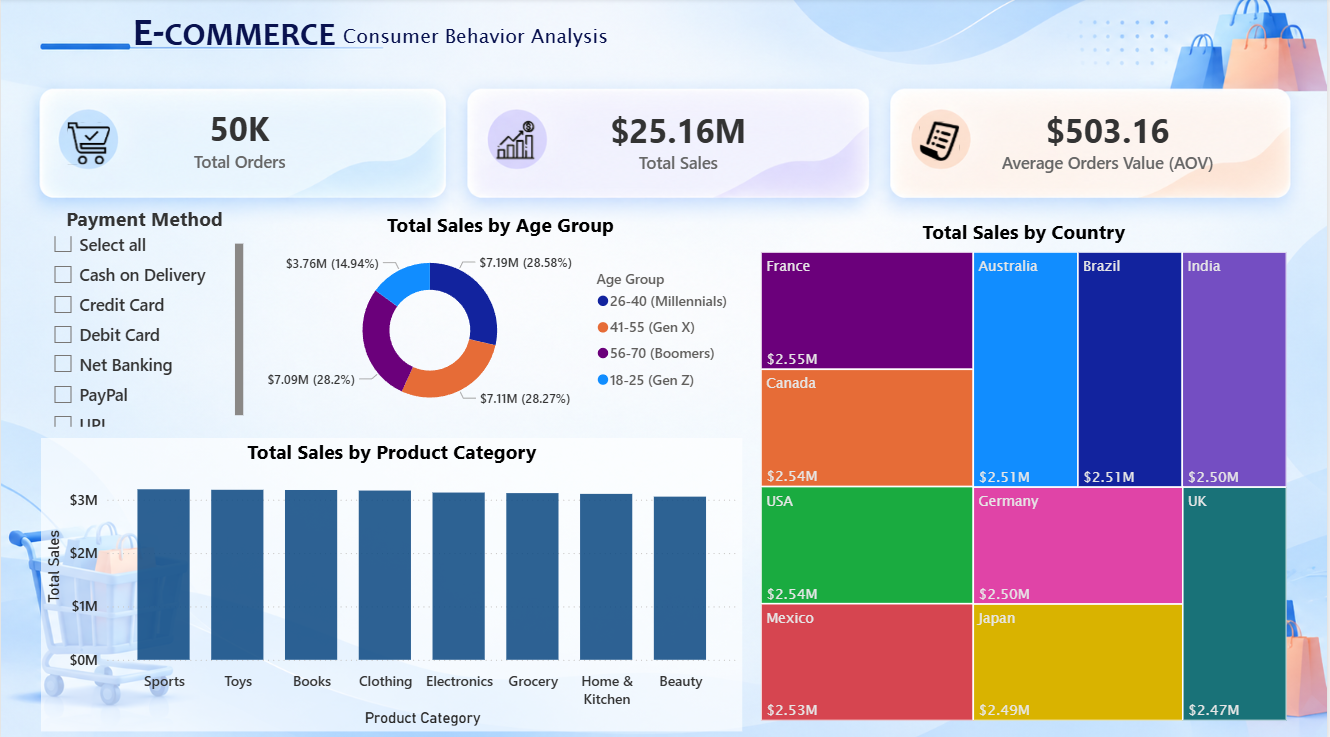

The page's visual inventory and layout, read from the dashboard file:
{"tool":"powerbi","page":{"name":"Page 1","canvas":[1280,720],"ordinal":0},"visuals":[{"type":"cardVisual","fields":{"Data":["Sum(ecommerce_db transactions.Purchase_Amount)"]},"box":[507.1,91.4,294.3,91.4],"z":0},{"type":"cardVisual","fields":{"Data":["CountNonNull(ecommerce_db transactions.Transaction_Date)"]},"box":[82.9,84.3,294.3,102.9],"z":1000},{"type":"cardVisual","fields":{"Data":["Avg(ecommerce_db transactions.Purchase_Amount)"]},"box":[920,87.1,295.7,100],"z":2000},{"type":"clusteredColumnChart","fields":{"Category":["ecommerce_db transactions.Product_Category"],"Y":["Sum(ecommerce_db transactions.Purchase_Amount)"]},"box":[38.6,424.3,677.1,282.9],"z":3000},{"type":"treemap","fields":{"Group":["ecommerce_db transactions.Country"],"Values":["Sum(ecommerce_db transactions.Purchase_Amount)"]},"box":[728.6,212.9,517.1,490],"z":4000},{"type":"donutChart","fields":{"Category":["ecommerce_db transactions.Age_Group"],"Y":["Sum(ecommerce_db transactions.Purchase_Amount)"]},"box":[248.6,205.7,467.1,204.3],"z":5000},{"type":"slicer","title":"Payment Method","fields":{"Values":["ecommerce_db transactions.Payment_Method"]},"box":[38.6,200,200,218.6],"z":6000},{"type":"actionButton","box":[50.5,111.4,67.7,58.2],"z":7000},{"type":"actionButton","box":[456.4,105.9,80.5,62.3],"z":8000},{"type":"actionButton","box":[872.7,110.9,67.3,54.1],"z":9000},{"type":"textbox","box":[65.7,0,320,64.3],"z":11000},{"type":"textbox","box":[298.6,18.6,320,41.4],"z":12000}]}

Visuals, with their boxes in screenshot pixels (x1, y1, x2, y2), scaled from the page's 1280x720 canvas onto the 1330x737 screenshot:
cardVisual - Sum(ecommerce_db transactions.Purchase_Amount): {"x1": 527, "y1": 94, "x2": 833, "y2": 187}
cardVisual - CountNonNull(ecommerce_db transactions.Transaction_Date): {"x1": 86, "y1": 86, "x2": 392, "y2": 192}
cardVisual - Avg(ecommerce_db transactions.Purchase_Amount): {"x1": 956, "y1": 89, "x2": 1263, "y2": 192}
clusteredColumnChart - ecommerce_db transactions.Product_Category x Sum(ecommerce_db transactions.Purchase_Amount): {"x1": 40, "y1": 434, "x2": 744, "y2": 724}
treemap - ecommerce_db transactions.Country x Sum(ecommerce_db transactions.Purchase_Amount): {"x1": 757, "y1": 218, "x2": 1294, "y2": 719}
donutChart - ecommerce_db transactions.Age_Group x Sum(ecommerce_db transactions.Purchase_Amount): {"x1": 258, "y1": 211, "x2": 744, "y2": 420}
"Payment Method" slicer: {"x1": 40, "y1": 205, "x2": 248, "y2": 428}
actionButton: {"x1": 52, "y1": 114, "x2": 123, "y2": 174}
actionButton: {"x1": 474, "y1": 108, "x2": 558, "y2": 172}
actionButton: {"x1": 907, "y1": 114, "x2": 977, "y2": 169}
textbox: {"x1": 68, "y1": 0, "x2": 401, "y2": 66}
textbox: {"x1": 310, "y1": 19, "x2": 643, "y2": 61}
